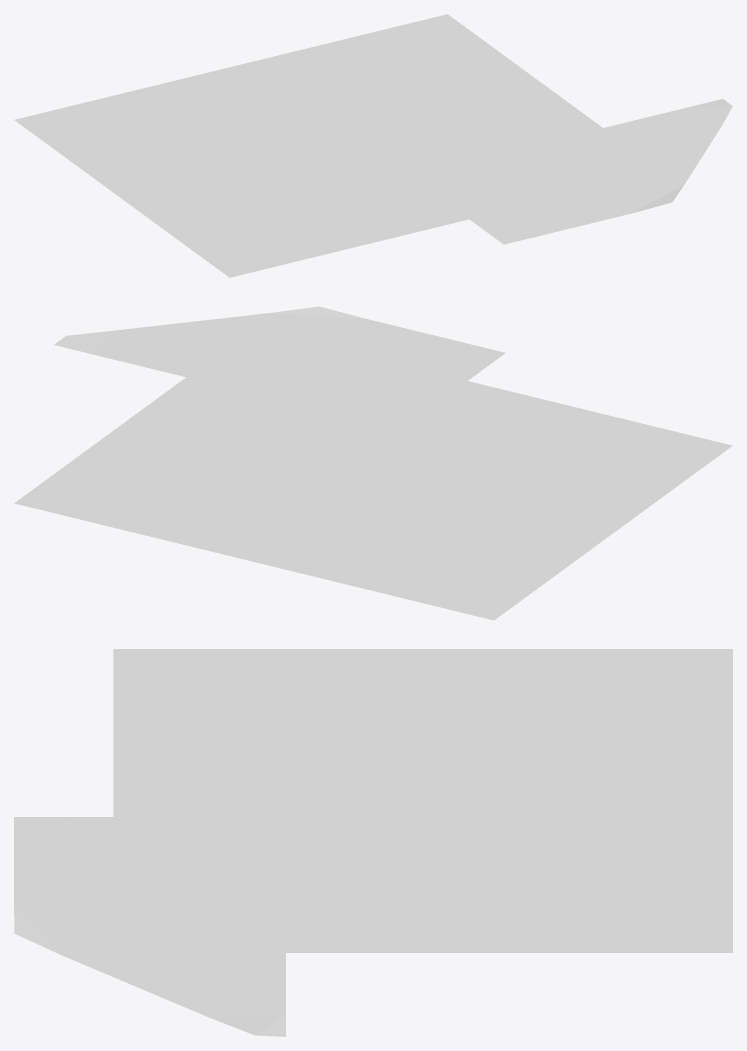
File: kitchen_0_0.ceiling.glb
3 views of the same model, one above another, from view 1: azimuth 30°, elevation 25°; view 2: azimuth 150°, elevation 25°; view 3: azimuth 270°, elevation 25° (orthographic). The views are drawn at different scales.
Visible parts, largest first — view 1: kitchen_0/0.ceiling.001; view 2: kitchen_0/0.ceiling.001; view 3: kitchen_0/0.ceiling.001.
Boxes of the visible parts, x1,y1,x2,y2 form: kitchen_0/0.ceiling.001: (14,14,732,277); kitchen_0/0.ceiling.001: (14,306,732,620); kitchen_0/0.ceiling.001: (14,649,732,1036).
Bounding box in the file's own units: 9.24 × 0.0159 × 7.24.
1 material, 1 textured.
